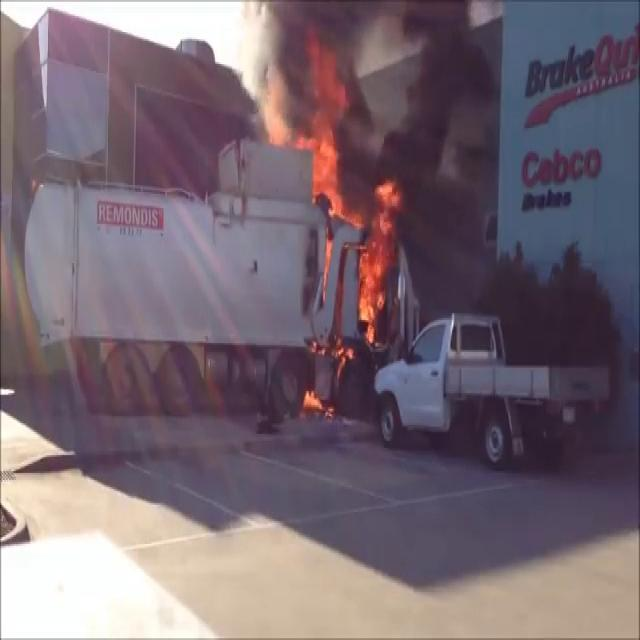Fire: (304, 107, 406, 340)
Smoke: (252, 1, 500, 236)
